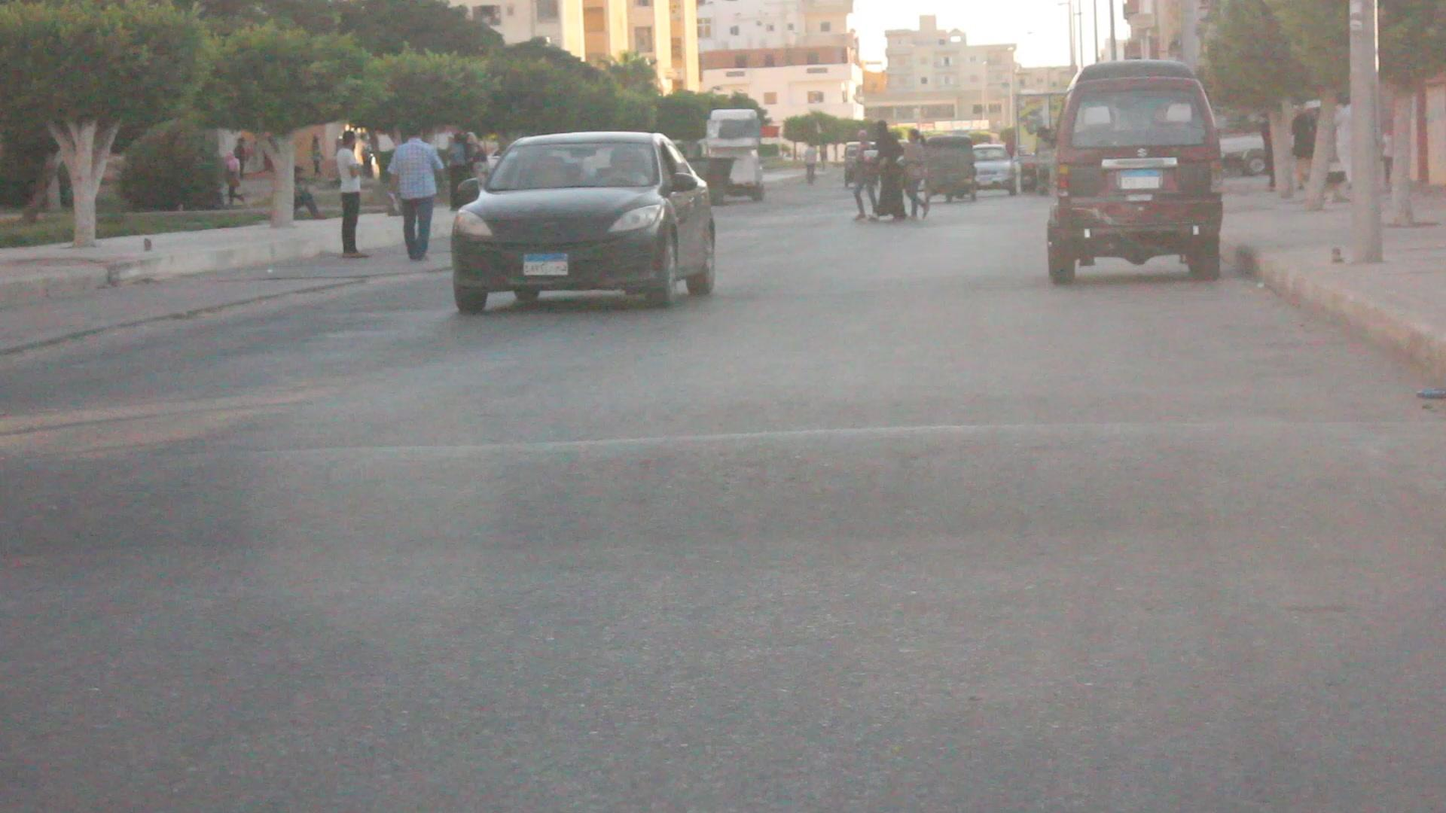Bump: (4, 429, 1446, 574)
